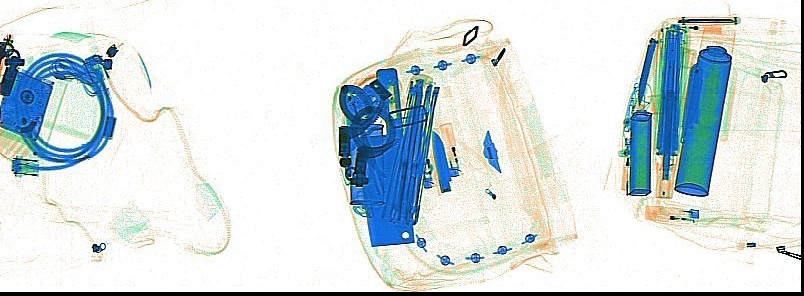handcuffs: (336, 83, 401, 187)
knife: (357, 67, 414, 246), (670, 66, 704, 174), (428, 126, 451, 192), (637, 37, 658, 105), (682, 62, 703, 121), (674, 15, 741, 26)
lighter: (438, 121, 461, 177), (644, 202, 700, 225), (416, 140, 438, 189), (619, 137, 634, 189), (670, 23, 722, 35)
pressure: (672, 22, 736, 197)
scissors: (349, 100, 396, 199)
zippooil: (346, 119, 384, 208), (627, 108, 652, 196)
